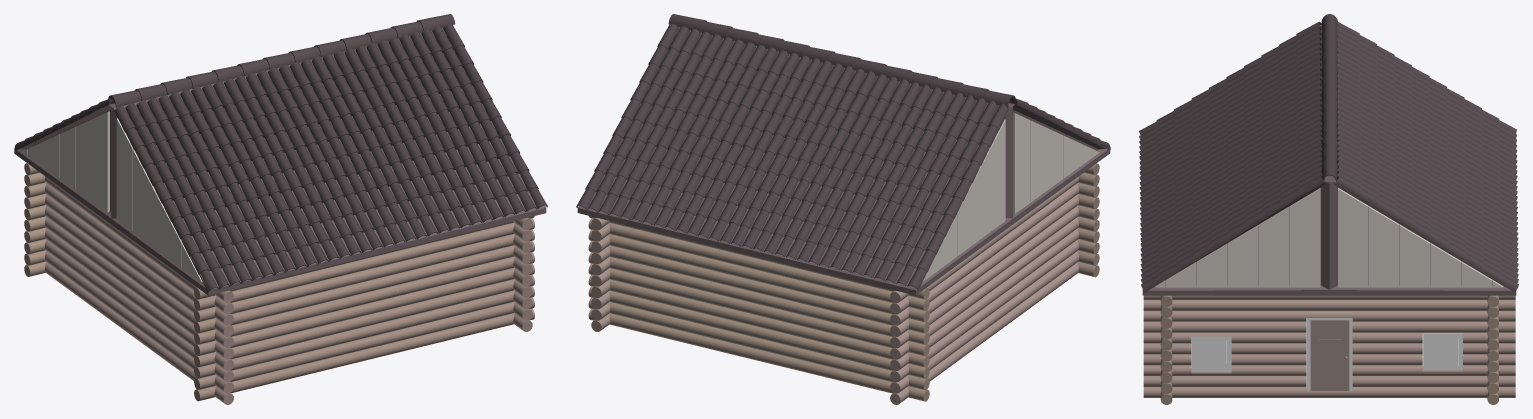
The model's file is rumah1.fbx.
The picture shows the model from 3 angles, left to right: view 1: azimuth 30°, elevation 25°; view 2: azimuth 150°, elevation 25°; view 3: azimuth 270°, elevation 25°; orthographic projection. The views are drawn at different scales.
Parts seen in each view (by area): view 1: Cylinder.006, Cylinder.003, Cylinder, Cube, Cube.009, Cube.008, Cylinder.005, Cylinder.002, Cylinder.001, Cylinder.004; view 2: Cylinder.004, Cylinder.002, Cylinder, Cube, Cube.009, Cube.008, Cylinder.005, Cylinder.003, Cylinder.001, Cylinder.006; view 3: Cylinder.001, Cylinder.006, Cylinder.004, Cube.007, Cube.005, Cube, Cylinder.005, Cube.002, Cube.003, Cylinder.003, Cylinder.002.
Part boxes in pixels (<box>): Cylinder.006: <box>114,23,547,292</box>; Cylinder.003: <box>194,216,534,401</box>; Cylinder: <box>45,176,233,404</box>; Cube: <box>14,27,546,295</box>; Cube.009: <box>116,118,202,282</box>; Cube.008: <box>22,111,109,212</box>; Cylinder.005: <box>108,14,455,107</box>; Cylinder.002: <box>24,163,46,276</box>; Cylinder.001: <box>513,217,532,331</box>; Cylinder.004: <box>14,99,114,150</box>; Cylinder.004: <box>576,23,1009,290</box>; Cylinder.002: <box>588,216,929,401</box>; Cylinder: <box>890,177,1078,404</box>; Cube: <box>577,27,1110,295</box>; Cube.009: <box>1013,112,1099,213</box>; Cube.008: <box>922,119,1005,282</box>; Cylinder.005: <box>668,14,1015,107</box>; Cylinder.003: <box>1077,163,1099,277</box>; Cylinder.001: <box>591,217,610,331</box>; Cylinder.006: <box>1009,98,1110,150</box>; Cylinder.001: <box>1143,295,1515,397</box>; Cylinder.006: <box>1139,21,1323,292</box>; Cylinder.004: <box>1336,21,1518,292</box>; Cube.007: <box>1155,188,1320,287</box>; Cube.005: <box>1338,188,1503,287</box>; Cube: <box>1142,25,1516,295</box>; Cylinder.005: <box>1321,14,1337,181</box>; Cube.002: <box>1191,318,1463,390</box>; Cube.003: <box>1197,338,1457,367</box>; Cylinder.003: <box>1160,295,1172,404</box>; Cylinder.002: <box>1487,295,1498,404</box>.
Size of the model in its own units: 3195 by 2170 by 3195.
